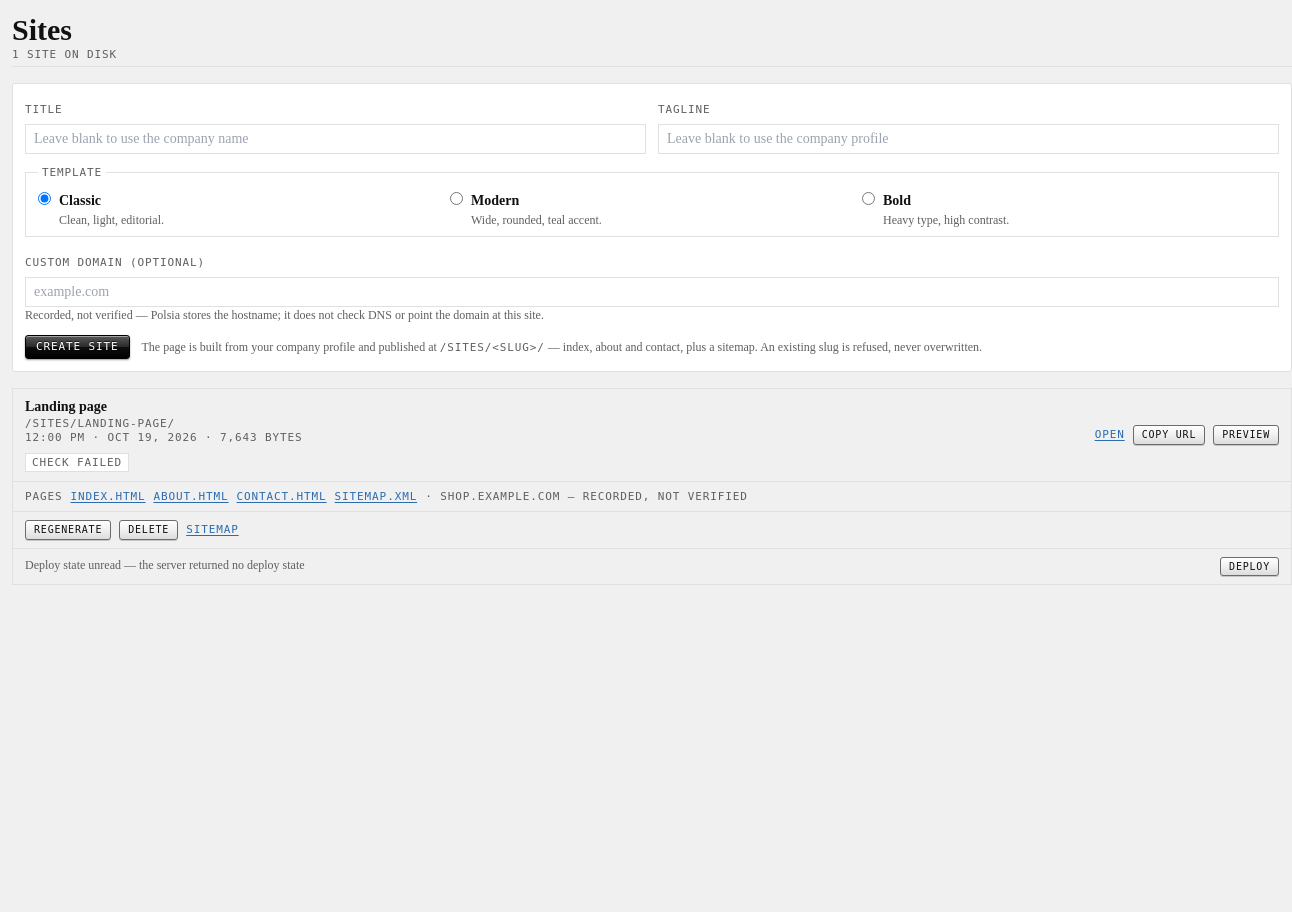
Test: /sites — the delete control › renders the server's named refusal inline and keeps the row
The image size is (1292, 912).
Click the button with aria-label "Delete Landing page" at (149, 530), box 119,520 -> 178,540
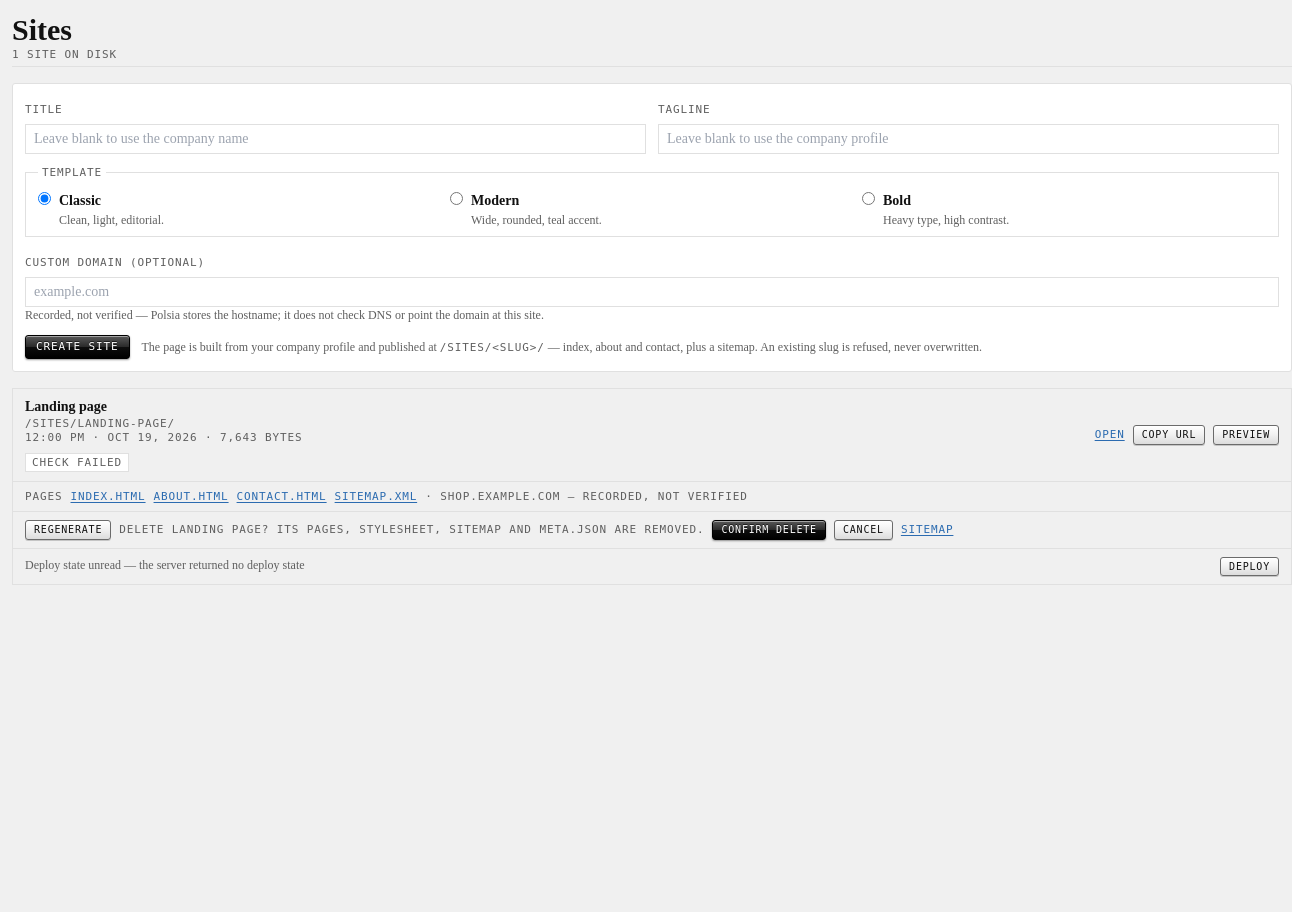
Click the button with aria-label "Confirm delete Landing page" at (769, 530), box 712,520 -> 826,540
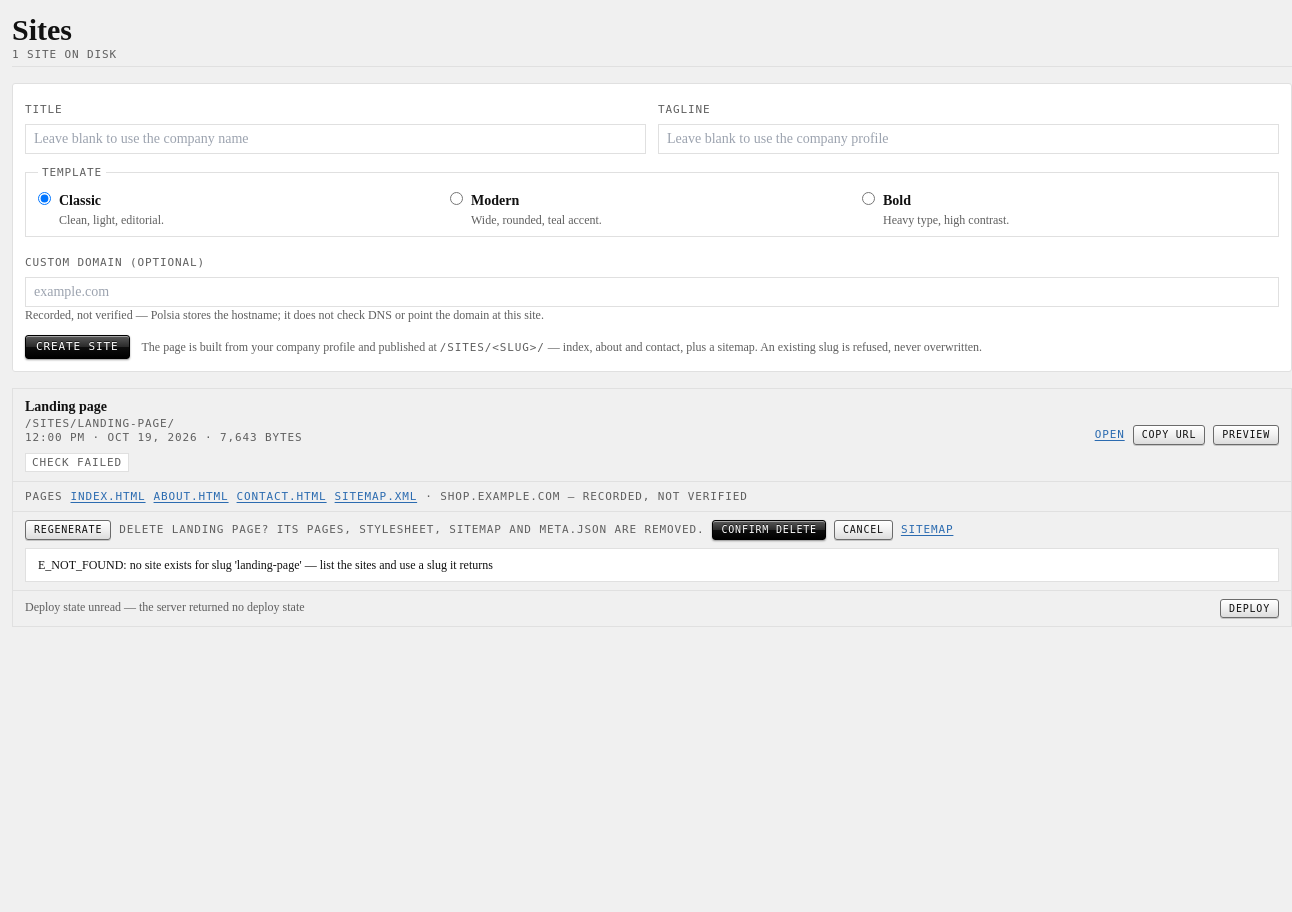
Expected: the button with aria-label "Confirm delete Landing page" is shown, 712,520 -> 826,540
Expected: the message with test id "site-lifecycle-error-landing-page" shows "E_NOT_FOUND", 38,558 -> 493,572
Expected: the message with test id "site-lifecycle-error-landing-page" shows "no site exists", 38,558 -> 493,572
